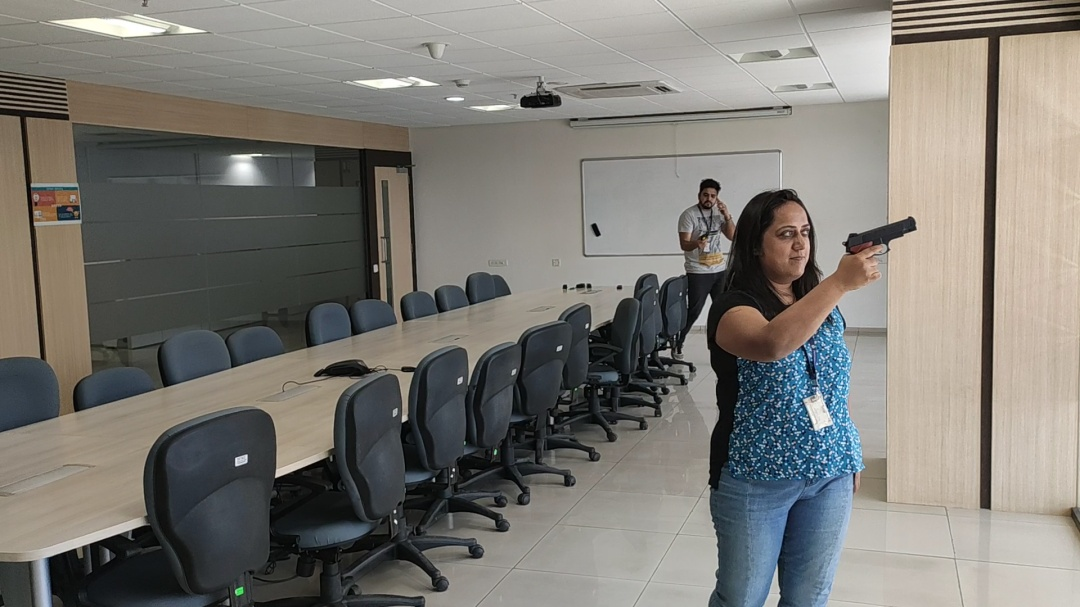gun: (842, 214, 918, 257)
